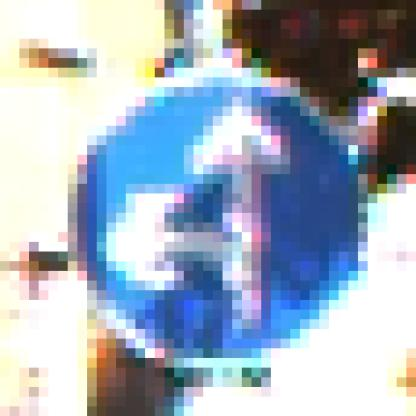Straight or Left: (59, 59, 369, 369)
